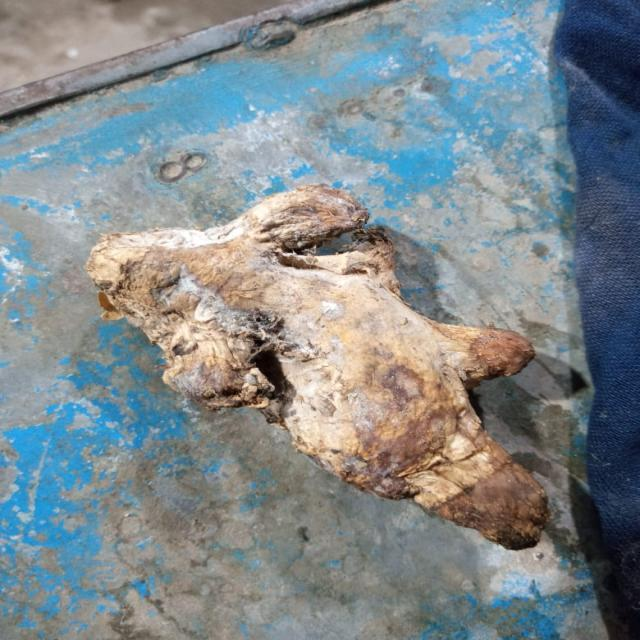ginger: (101, 205, 564, 546)
